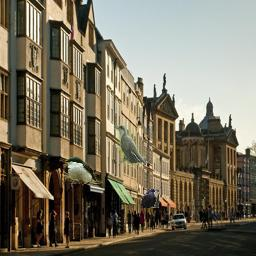Crow: (141, 189, 159, 208)
Cuckoo: (114, 125, 146, 165)
Swallow: (65, 157, 103, 184)
